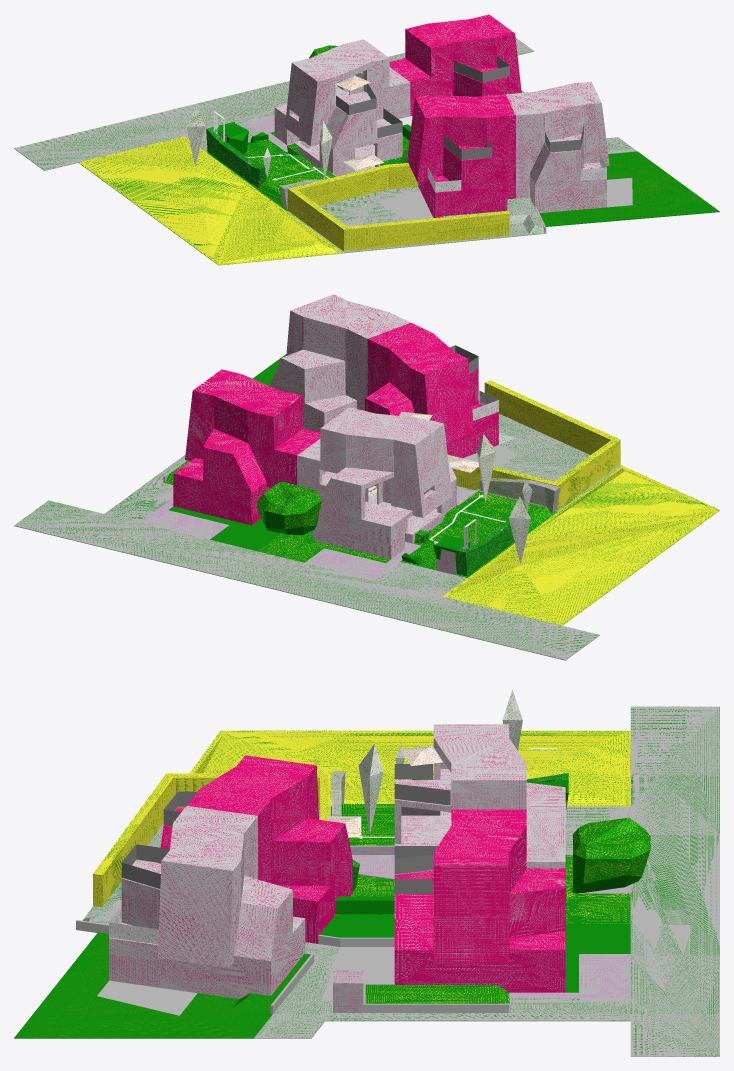
The picture shows the model from 3 angles, top to bottom: view 1: azimuth 30°, elevation 25°; view 2: azimuth 150°, elevation 25°; view 3: azimuth 270°, elevation 25°; orthographic projection. The views are drawn at different scales.
Parts seen in each view (by area): view 1: walls_house_noclip (×3), lawn (×6), walls_house___clip, hedge_noclip (×4), pavement (×4), handrail_noclip (×3), handrail___clip (×2), hedge___clip; view 2: walls_house_noclip (×3), lawn (×7), pavement (×3), walls_house___clip, hedge_noclip (×7); view 3: walls_house_noclip (×3), pavement (×5), lawn (×12), walls_house___clip, hedge_noclip (×7), handrail_noclip (×3), handrail___clip, walls_shed, umbrella.
Boxes of the visible parts, bbox=[...] form: walls_house_noclip (×3): bbox=[389, 14, 609, 217]; lawn (×6): bbox=[78, 136, 719, 265]; walls_house___clip: bbox=[274, 39, 410, 176]; hedge_noclip (×4): bbox=[186, 107, 509, 251]; pavement (×4): bbox=[14, 38, 637, 220]; handrail_noclip (×3): bbox=[443, 56, 583, 159]; handrail___clip (×2): bbox=[336, 83, 402, 138]; hedge___clip: bbox=[217, 121, 248, 154]; walls_house_noclip (×3): bbox=[173, 294, 498, 525]; lawn (×7): bbox=[168, 400, 719, 625]; pavement (×3): bbox=[14, 454, 599, 660]; walls_house___clip: bbox=[297, 407, 456, 559]; hedge_noclip (×7): bbox=[256, 380, 620, 576]; walls_house_noclip (×3): bbox=[109, 755, 565, 998]; pavement (×5): bbox=[97, 706, 719, 1056]; lawn (×12): bbox=[14, 730, 630, 1038]; walls_house___clip: bbox=[394, 724, 565, 874]; hedge_noclip (×7): bbox=[93, 689, 650, 914]; handrail_noclip (×3): bbox=[109, 844, 433, 944]; handrail___clip: bbox=[394, 764, 450, 805]; walls_shed: bbox=[333, 970, 363, 1012]; umbrella: bbox=[400, 745, 442, 766].
Size of the model in its own units: 1946 by 1662 by 343.
